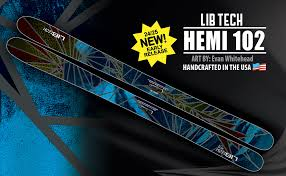skis: (5, 16, 275, 171)
